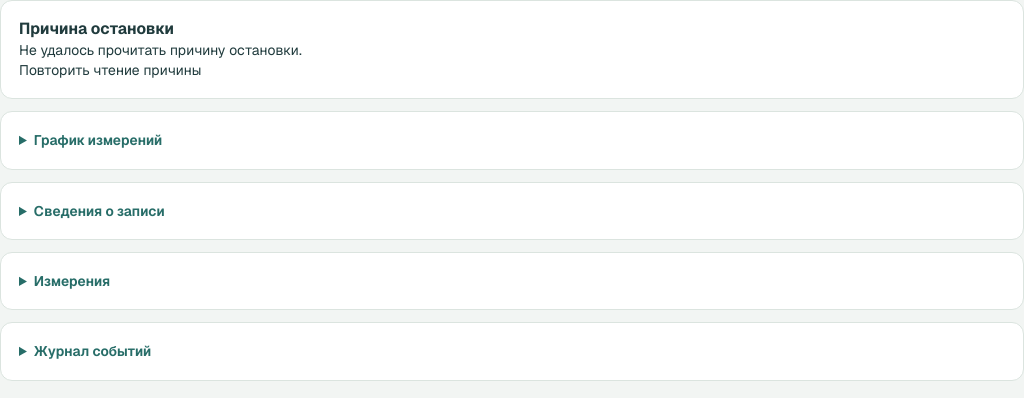
Test: не выдаёт ошибку чтения причины за отсутствие и повторяет для неизвестного исхода
Check: the text "Не удалось прочитать причину остановки." is shown, box [19,41,302,59]
Click the button "Повторить чтение причины".
click(110, 70)  # box [19,60,201,80]
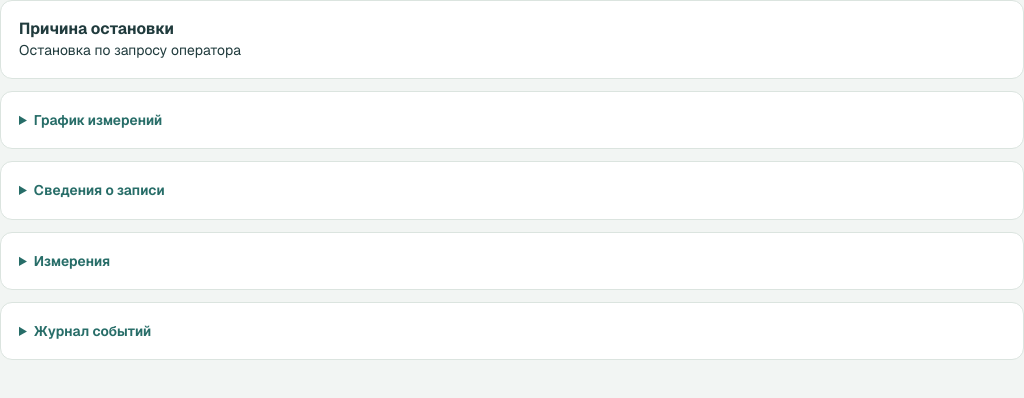
Check: the text "Остановка по запросу оператора" is shown, box [19,41,241,59]
